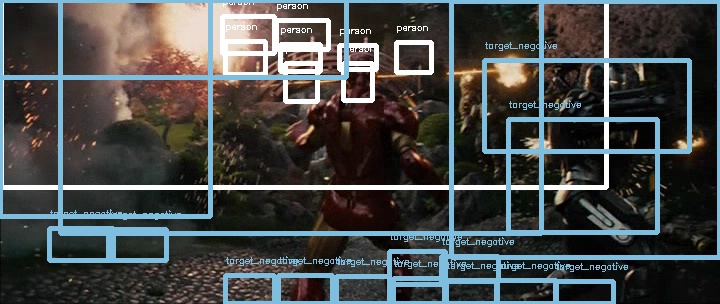person: (337, 47, 383, 94), (336, 47, 382, 94), (338, 47, 384, 94), (337, 46, 383, 93), (337, 48, 383, 95)
target_negative: (277, 89, 522, 193), (463, 20, 547, 247), (339, 22, 520, 116), (240, 52, 586, 84), (191, 230, 313, 264), (679, 266, 695, 276)
